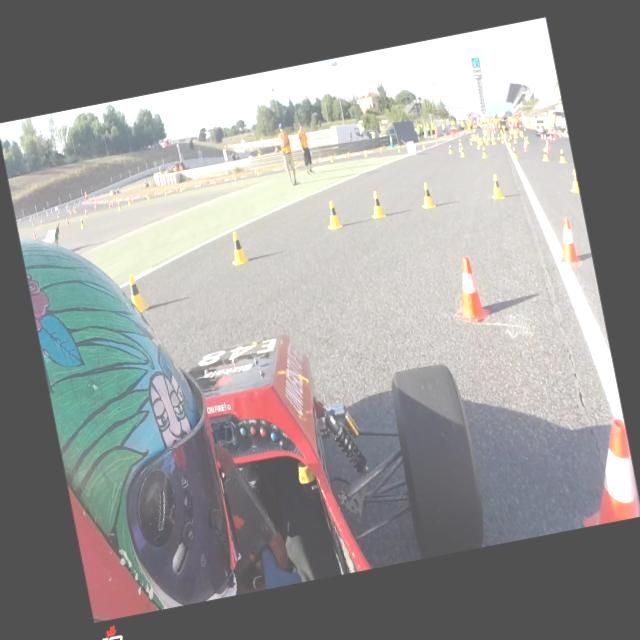orange_cone: (565, 418, 640, 527), (446, 254, 490, 326), (552, 215, 582, 269), (544, 142, 550, 154), (522, 140, 528, 152), (254, 168, 258, 176), (346, 152, 351, 158), (131, 195, 135, 202), (154, 190, 158, 197), (84, 208, 88, 215), (68, 210, 72, 217), (66, 217, 70, 224), (434, 138, 438, 144), (318, 156, 322, 162), (108, 202, 112, 208), (176, 185, 179, 192), (232, 173, 234, 180), (380, 146, 382, 152), (200, 181, 202, 186)
yellow_cone: (126, 272, 148, 312), (226, 229, 249, 266), (367, 190, 386, 220), (323, 200, 342, 230), (418, 181, 436, 210), (488, 174, 504, 202), (566, 168, 580, 194), (556, 148, 568, 165), (540, 146, 550, 162), (480, 146, 488, 159), (511, 147, 518, 161), (459, 146, 464, 158), (126, 196, 132, 205), (80, 218, 85, 228), (448, 144, 452, 154), (458, 142, 462, 152), (117, 202, 122, 210), (363, 150, 367, 158), (330, 155, 334, 163), (233, 173, 237, 181), (146, 192, 150, 200), (164, 188, 168, 196), (256, 168, 260, 175), (422, 141, 425, 149), (397, 144, 400, 152), (180, 184, 182, 192), (214, 177, 216, 185), (294, 162, 296, 168)
